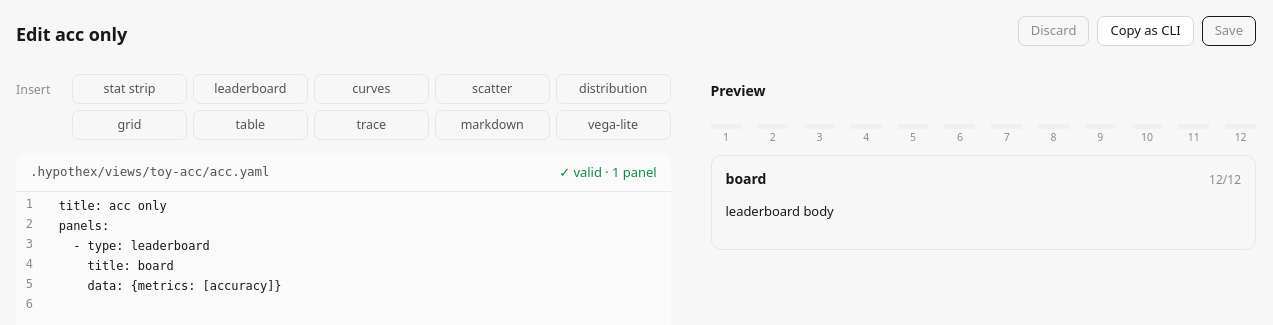
Test: ViewEditor › loads the view, validates it once, previews it, and selects panels
Expected: the heading reads "Edit acc only", [16,22,127,46]
Expected: the element "board" shows "leaderboard body", [726,202,834,220]
Click the element "board".
click(983, 202)  # box [710,155,1256,250]
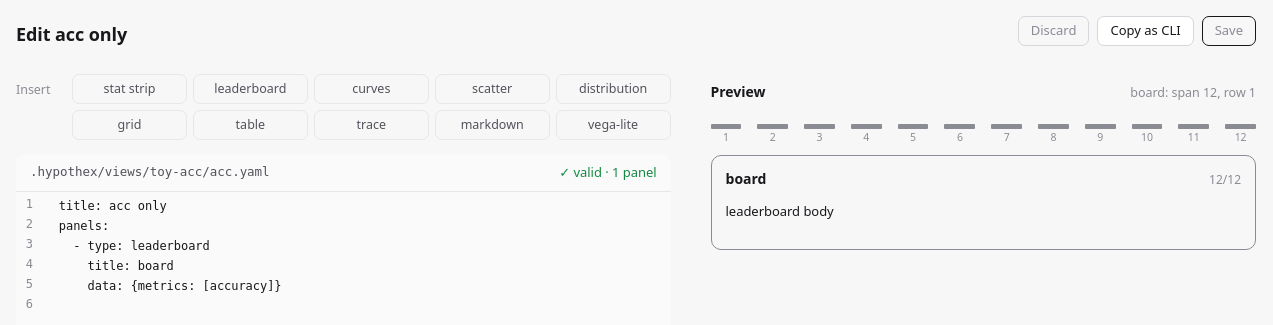
Now the text with test id "ruler-label" reads "board: span 12, row 1", box [1130,84,1256,101]
